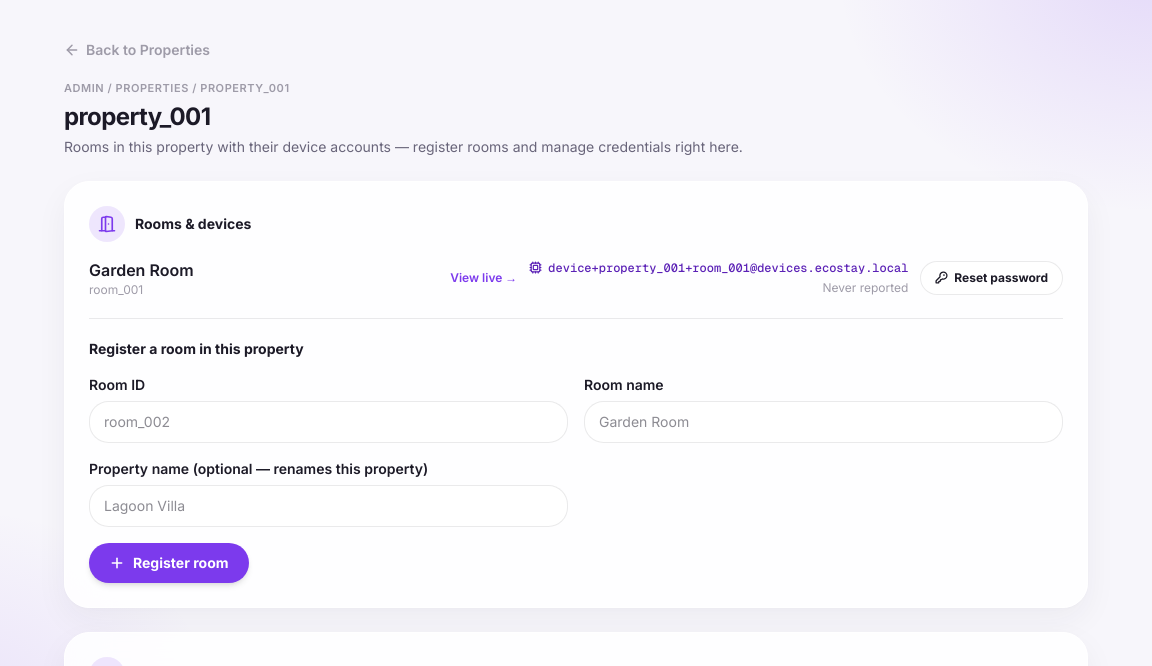
property detail — per-room device credentials (slice 05) › resetting a credential requires confirmation first
Click the button "Reset password": (992, 278) [920, 260, 1063, 294]
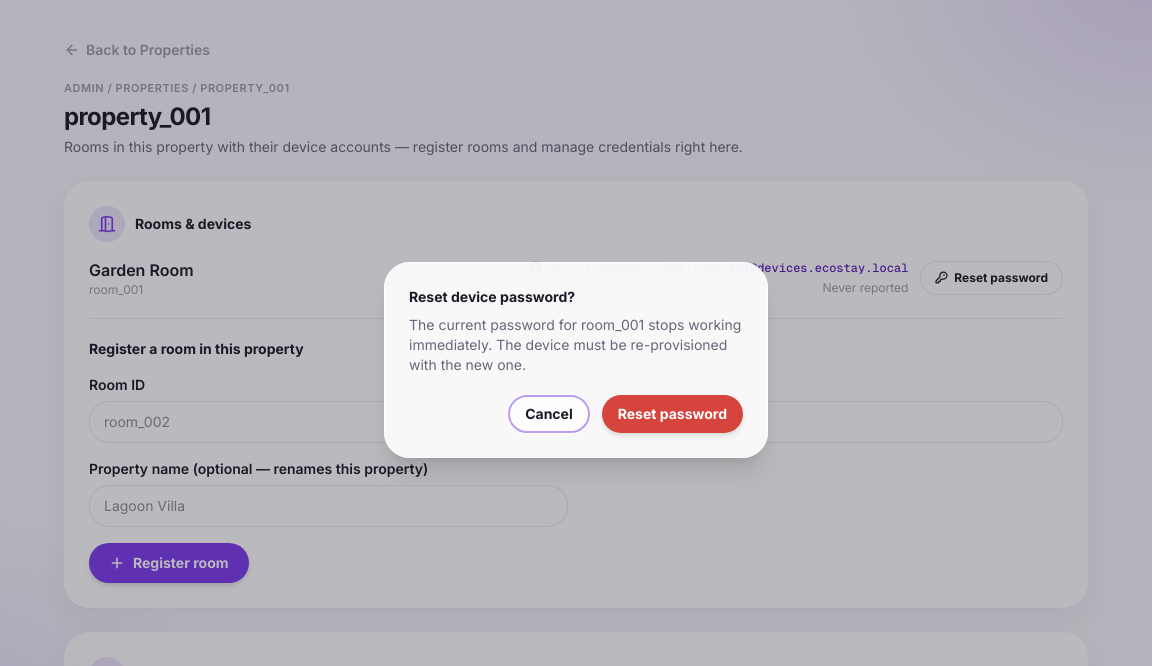
Expected: the dialog "Reset device password" is shown, [384, 262, 768, 458]
Click the button "Reset password": (672, 414) [602, 395, 743, 433]
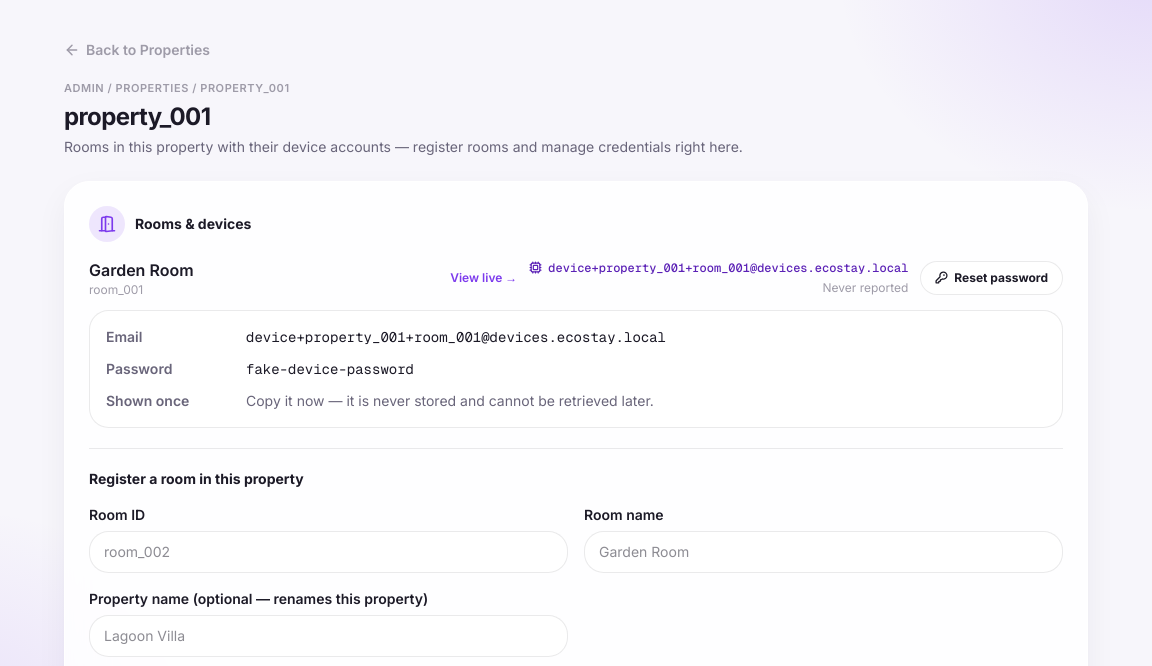
Expected: the text "fake-device-password" is shown, [246, 360, 414, 378]
